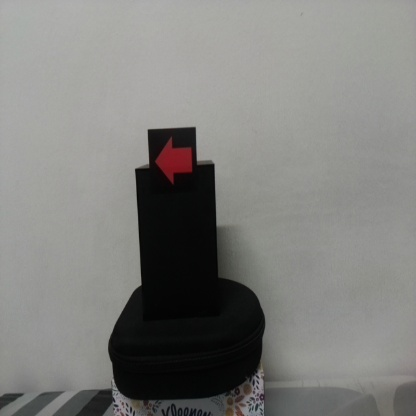id_4: (148, 129, 198, 193)
